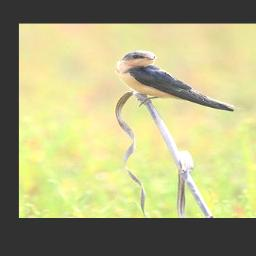Swallow: (114, 46, 247, 115)
